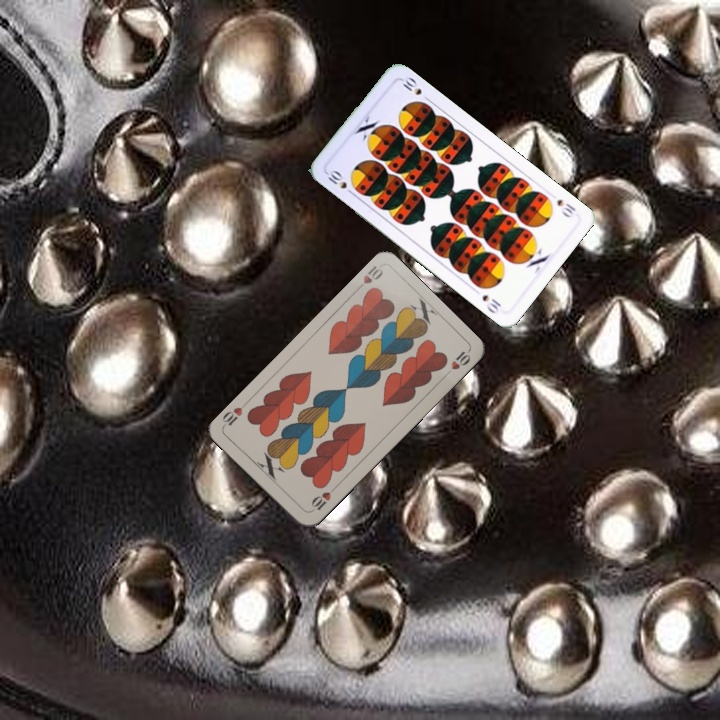H10: (351, 262, 385, 294), (307, 482, 339, 515)
S10: (323, 166, 357, 198), (553, 195, 579, 220)
